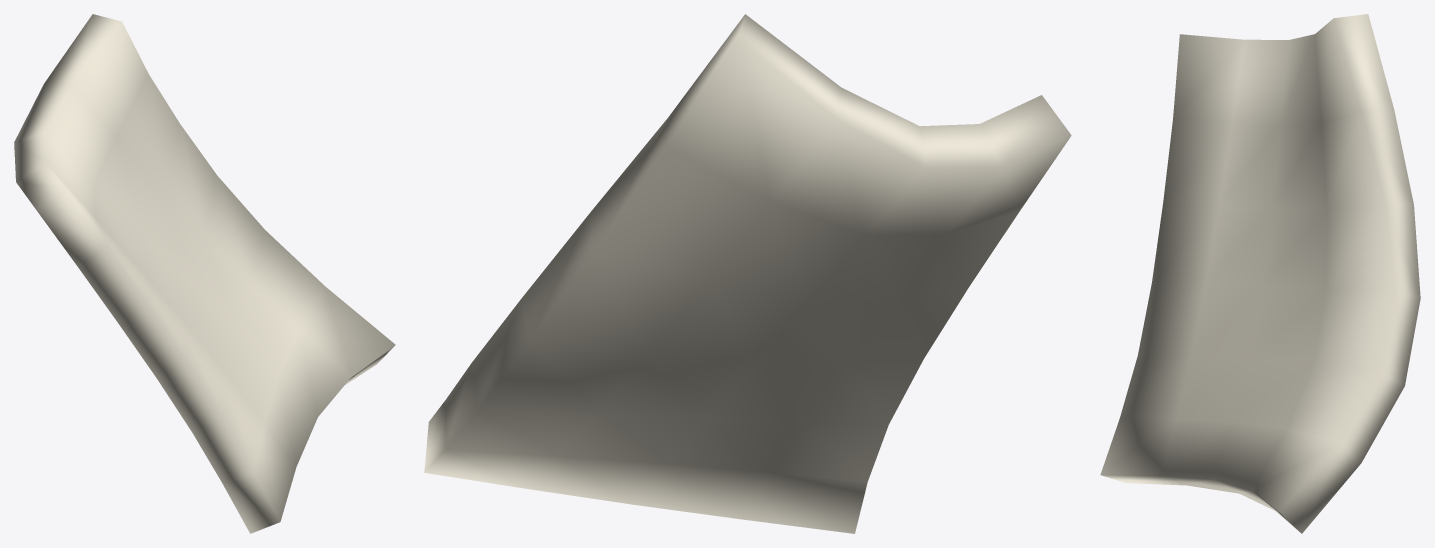
The picture shows the model from 3 angles, left to right: view 1: azimuth 30°, elevation 25°; view 2: azimuth 150°, elevation 25°; view 3: azimuth 270°, elevation 25°; orthographic projection. The views are drawn at different scales.
Parts seen in each view (by area): view 1: ZA_dec3754f411bde32; view 2: ZA_dec3754f411bde32; view 3: ZA_dec3754f411bde32.
Part boxes in pixels (x1=…): ZA_dec3754f411bde32: x1=14, y1=14, x2=395, y2=533; ZA_dec3754f411bde32: x1=424, y1=14, x2=1071, y2=533; ZA_dec3754f411bde32: x1=1100, y1=14, x2=1420, y2=533.
Size of the model in its own units: 0.019 by 0.0199 by 0.0128.
